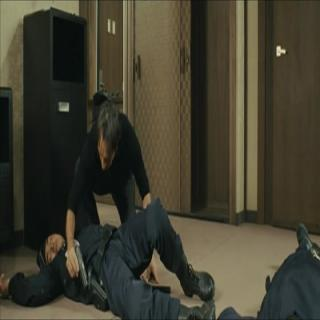gun: (69, 231, 90, 297)
